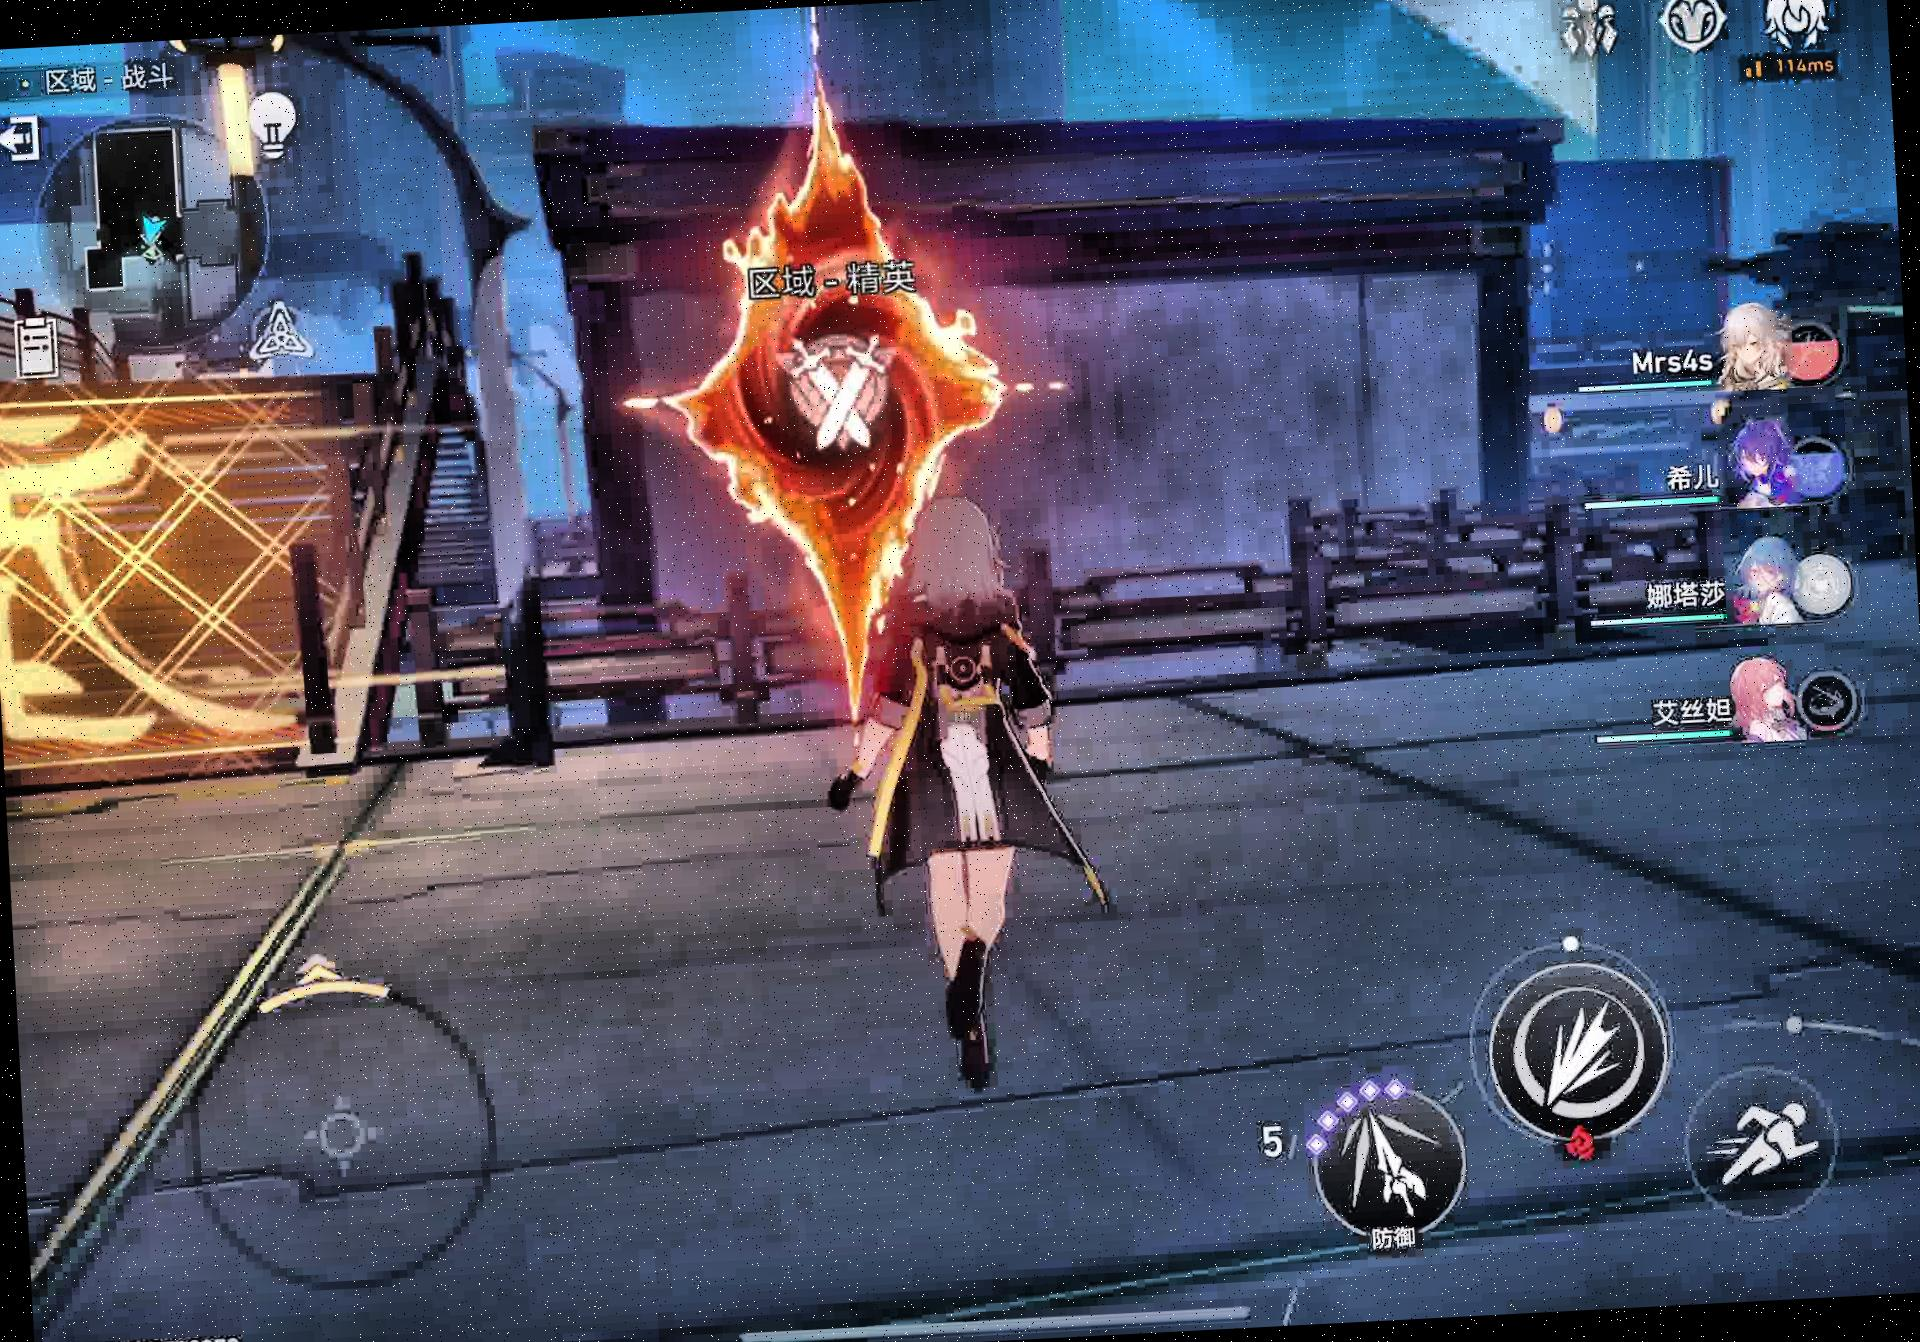BattleDoor: (619, 89, 1045, 751)
Self: (814, 499, 1128, 1097)
